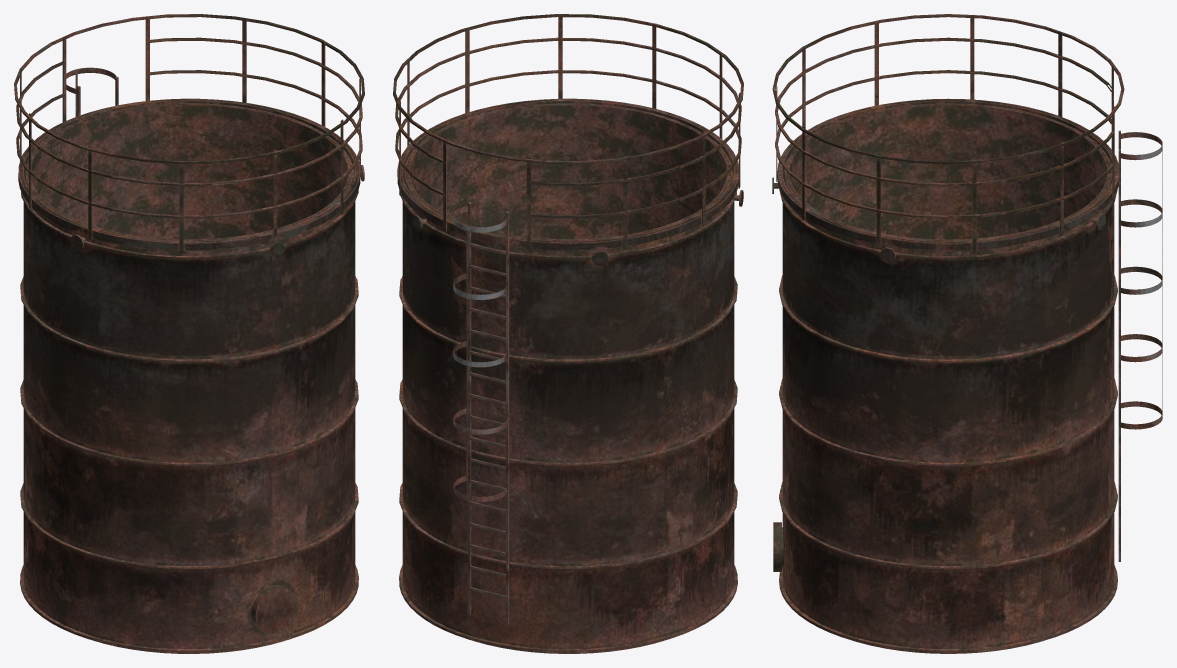
The model's file is fuel_tank.gltf.
3 views of the same model, side by side, from view 1: azimuth 30°, elevation 25°; view 2: azimuth 150°, elevation 25°; view 3: azimuth 270°, elevation 25° (orthographic).
Visible parts, largest first — view 1: STORAGE TANK.009; view 2: STORAGE TANK.009; view 3: STORAGE TANK.009.
Part boxes in pixels (<box>): STORAGE TANK.009: <box>14,14,364,653</box>; STORAGE TANK.009: <box>393,14,743,653</box>; STORAGE TANK.009: <box>772,14,1162,653</box>.
Size of the model in its own units: 2.12 by 3.32 by 2.36.
1 material, 1 textured.
